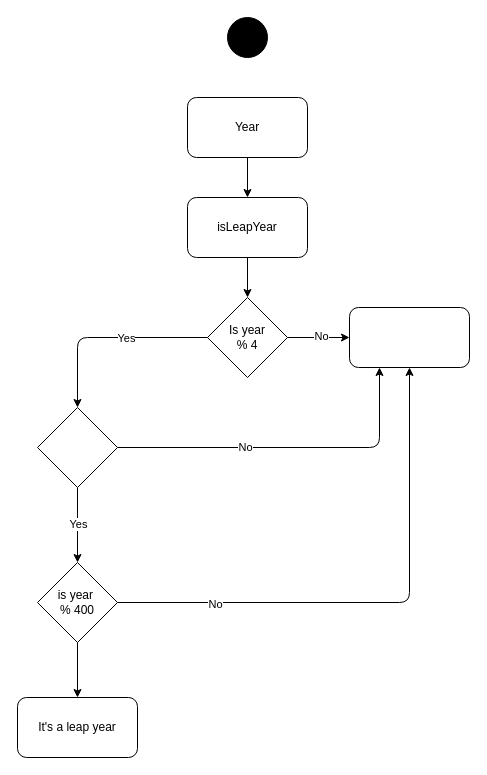
This 487x775 diagram has some shape labels left out. The centre of each missing label's shape, as x and y in pixels:
is year % 100: pixel 77 447
It's not a leap year: pixel 409 337
